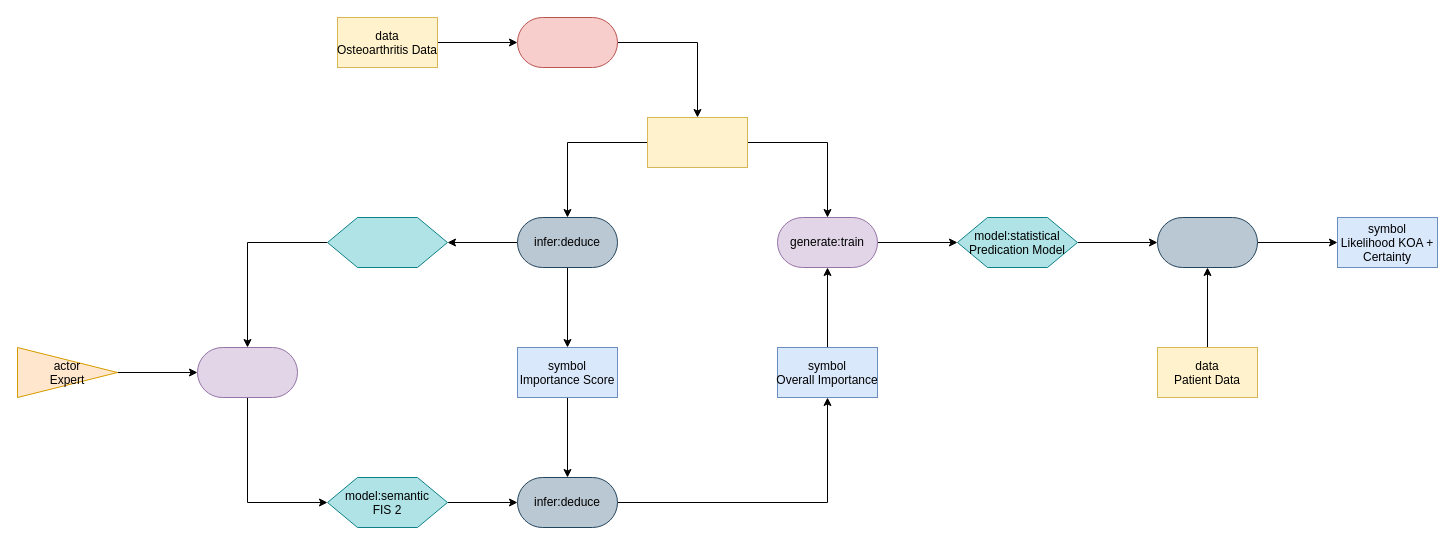
This 1455x545 diagram has some shape labels left out. Here are the shapes that lost their labels. From the top down, the centre of each, then its label:
At (x=567, y=42): "transform".
At (x=697, y=142): "data Extracted Features".
At (x=387, y=242): "model:semantic FIS 1".
At (x=1207, y=242): "infer:predict".
At (x=247, y=372): "generate:engineer".
